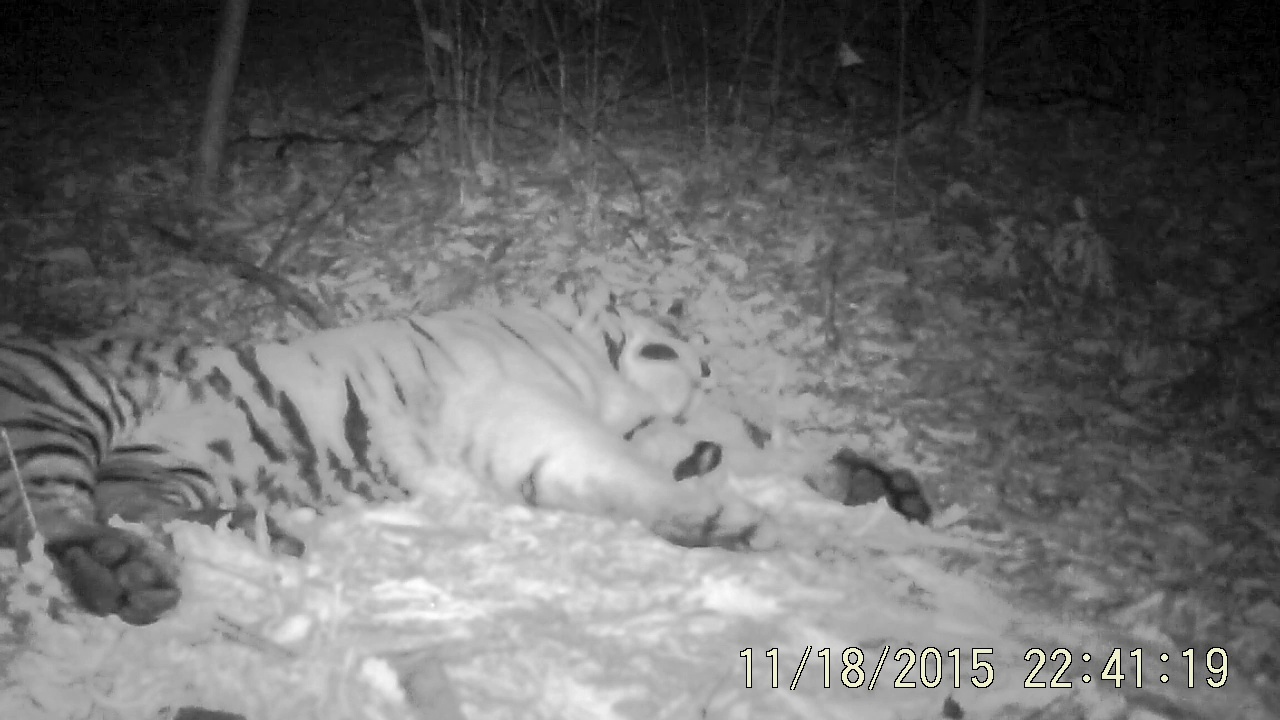Tiger: (1, 159, 1156, 643)
